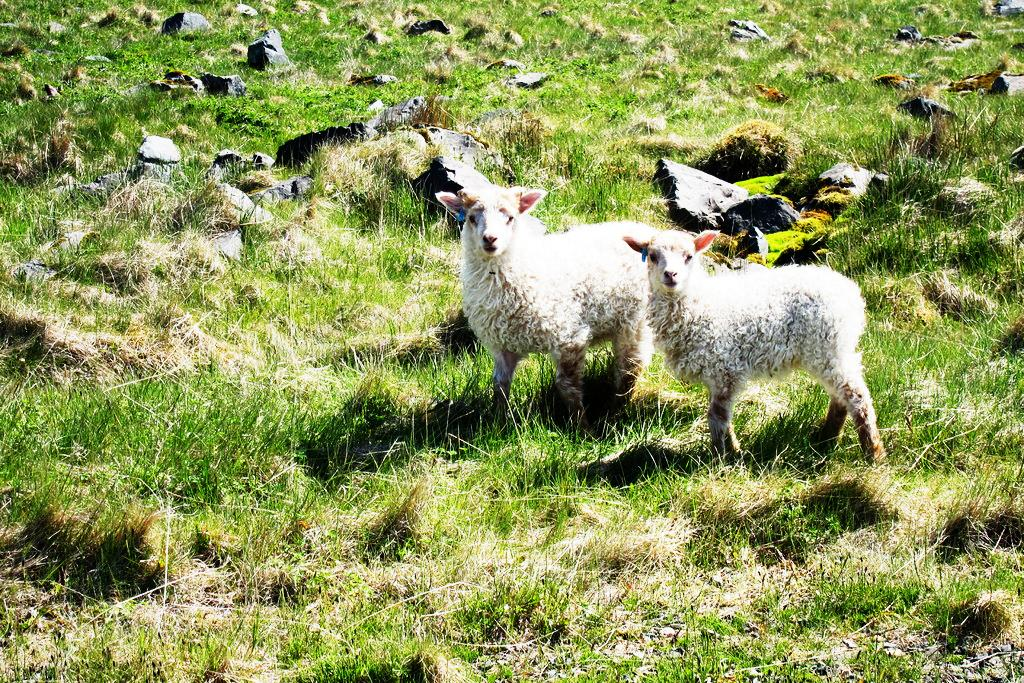Sheep: (624, 233, 885, 464), (436, 187, 650, 426)
